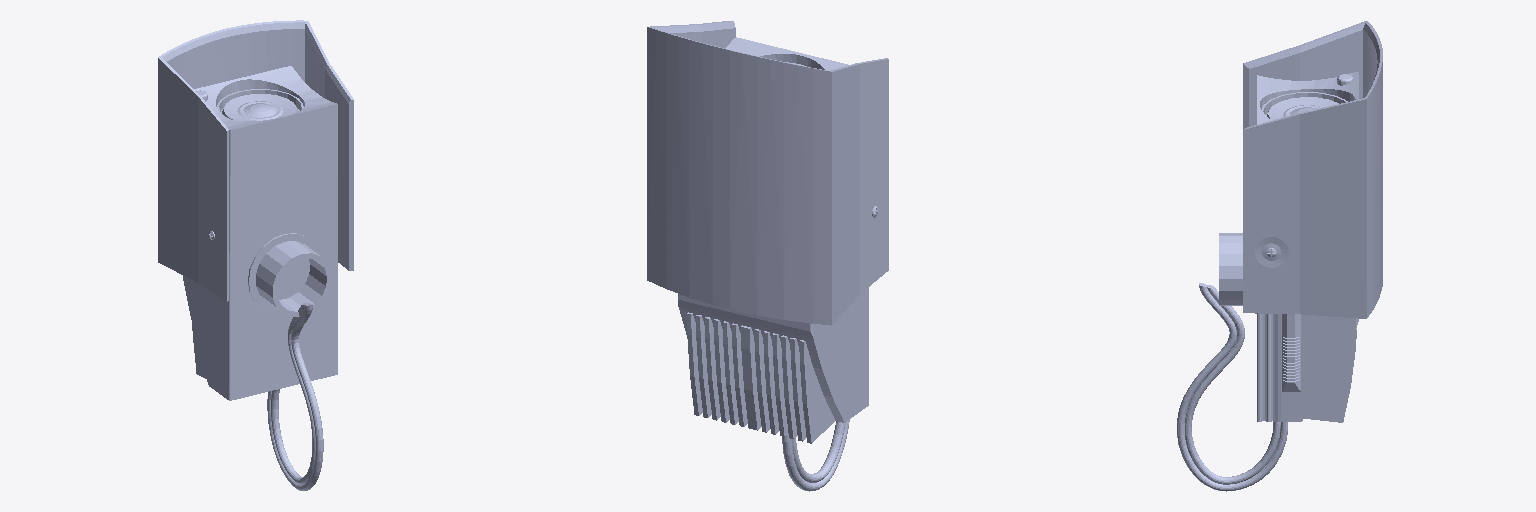
robot.urdf — User Library-Kaamera:
<robot
  name="User Library-Kaamera">
  <link
    name="User Library-Kaamera">
    <inertial>
      <origin
        xyz="-5.0996E-05 -0.029719 0.0072913"
        rpy="0 0 0" />
      <mass
        value="3.286" />
      <inertia
        ixx="0.024102346271926"
        ixy="5.40955905508391E-06"
        ixz="7.41332613701025E-06"
        iyy="-0.00177048198906155"
        iyz="-0.00789613610288936"
        izz="0.00177048198906155" />
    </inertial>
    <visual>
      <origin
        xyz="1.5707963267949 0 0"
        rpy="0 0 0" />
      <geometry>
        <mesh
          filename="package://User Library-Kaamera/meshes/User Library-Kaamera.STL" />
      </geometry>
      <material
        name="">
        <color
          rgba="0.79216 0.81961 0.93333 1" />
      </material>
    </visual>
    <collision>
      <origin
        xyz="0 0 0"
        rpy="1.5707963267949 0 0" />
      <geometry>
        <mesh
          filename="package://User Library-Kaamera/meshes/User Library-Kaamera.STL" />
      </geometry>
    </collision>
  </link>
</robot>

--- Facts derived from the render (not from the file) ---
Views: 3 orthographic renders of the robot side by side, from view 1: azimuth 30°, elevation 25°; view 2: azimuth 150°, elevation 25°; view 3: azimuth 270°, elevation 25°.
Model User Library-Kaamera with 1 links and 0 joints (none), rooted at User Library-Kaamera, posed every joint at zero.
Links seen in each view (by area): view 1: User Library-Kaamera; view 2: User Library-Kaamera; view 3: User Library-Kaamera.
Boxes of the visible links, x1,y1,x2,y2 form: User Library-Kaamera: (158,20,353,490); User Library-Kaamera: (647,21,888,491); User Library-Kaamera: (1177,21,1382,491).
Bounding box of the posed robot: 0.1648 × 0.1831 × 0.4266 m (x, y, z).
Meshes: 1 distinct files referenced, 1 mesh visuals loaded (1 binary STL).